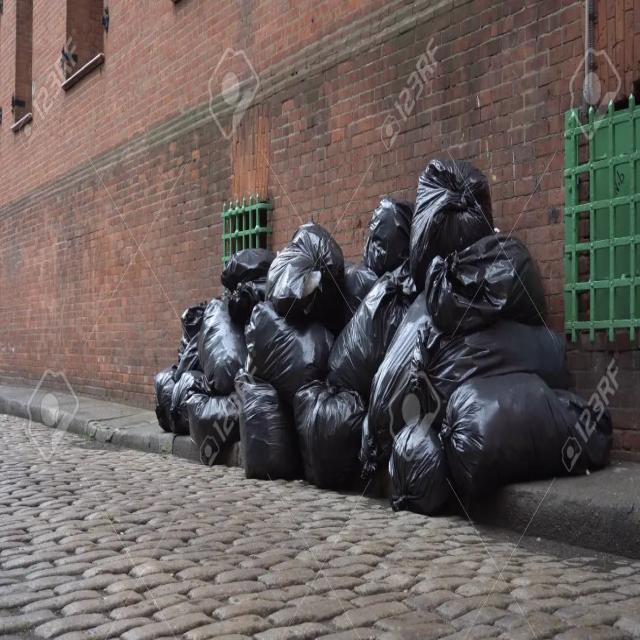garbage: (147, 144, 633, 524)
